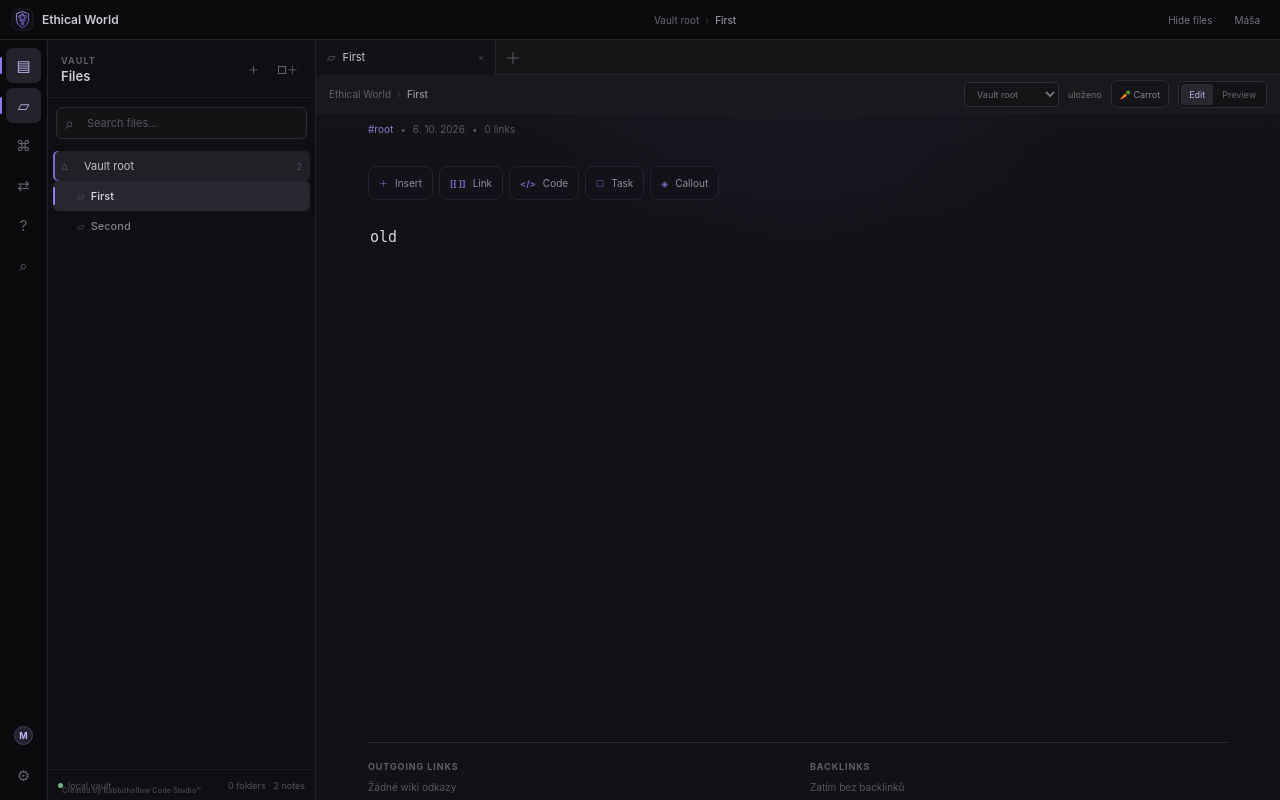
Test: workspace persistence and dependent actions › reports a failed write instead of claiming it was saved
This screenshot has width=1280, height=800.
(page scrolled)
Replace the text in the text box named "Obsah poznámky" with "unsaved" at (798, 457), box [368, 222, 1228, 692]
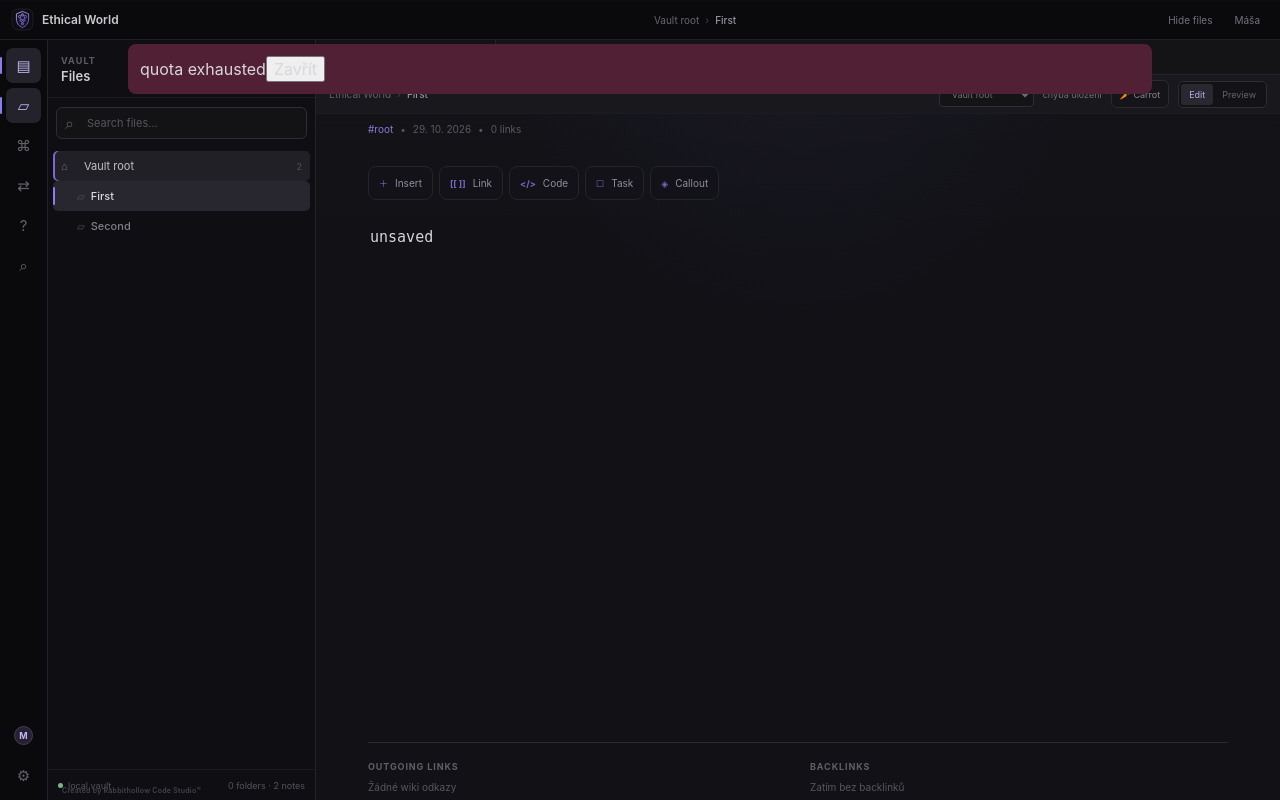
Expected: the text "chyba uložení" is shown, [1043, 88, 1102, 100]
